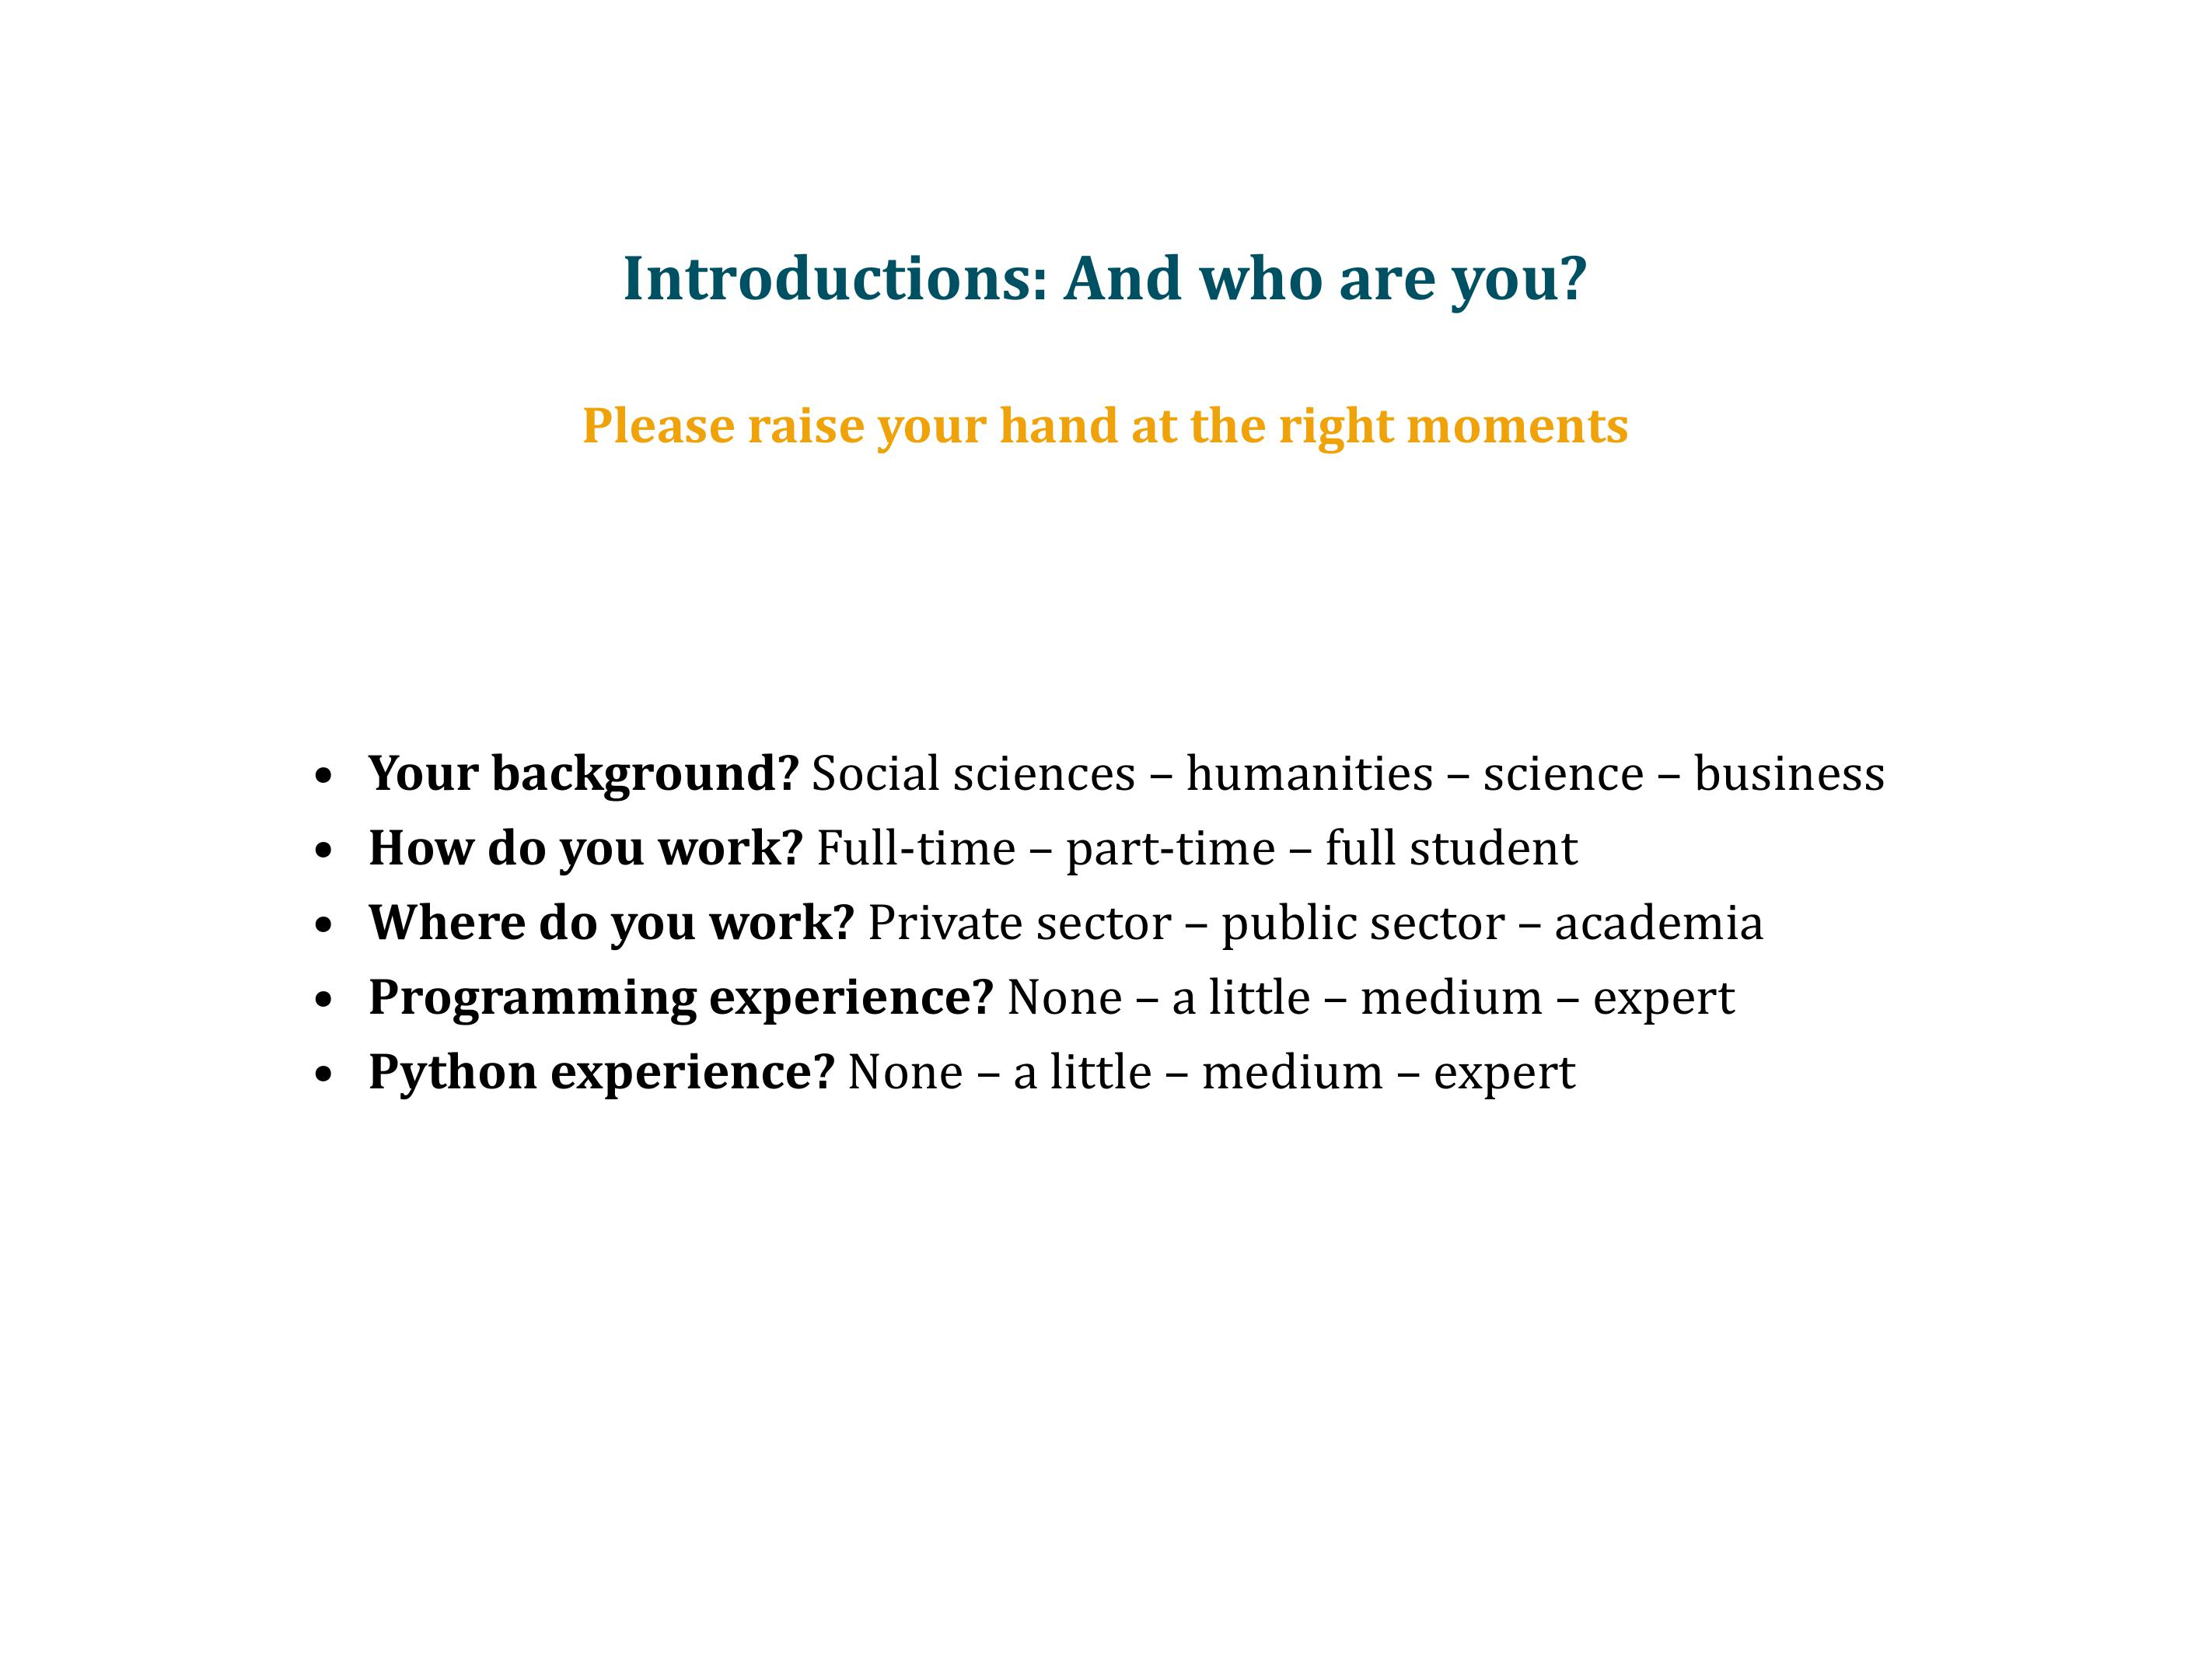Title: (598, 234, 1600, 314)
